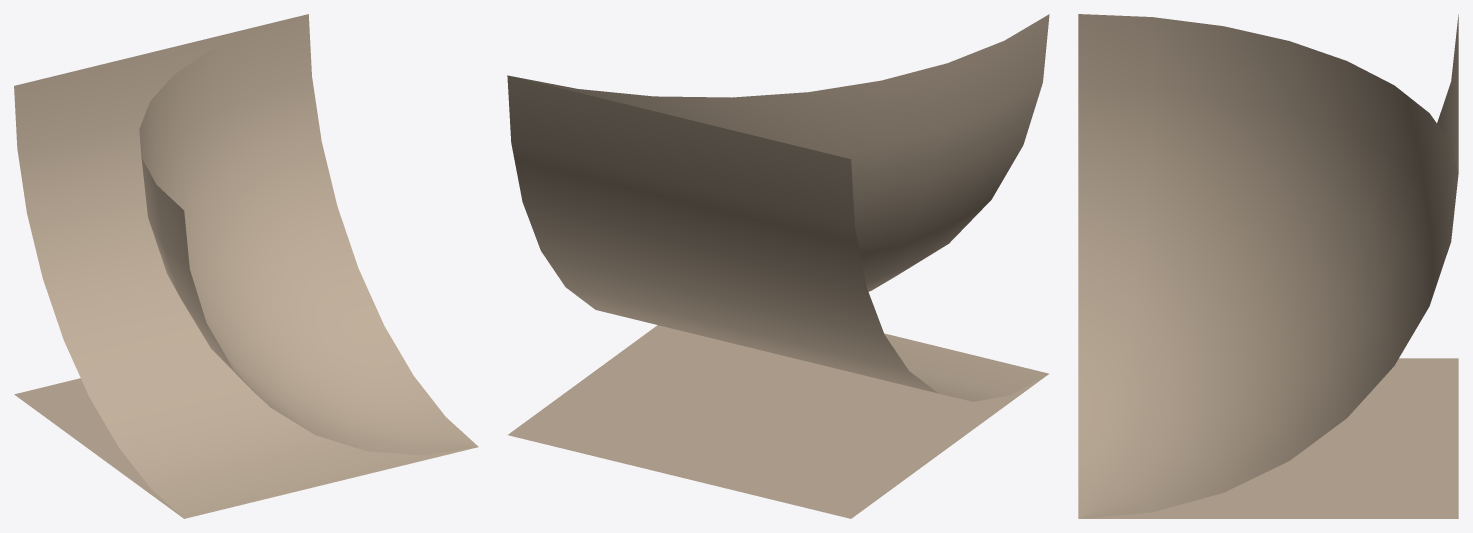
File: dug-wall-kit.glb
3 views of the same model, side by side, from view 1: azimuth 30°, elevation 25°; view 2: azimuth 150°, elevation 25°; view 3: azimuth 270°, elevation 25° (orthographic). The views are drawn at different scales.
Visible parts, largest first — view 1: dug_dome, dug_edge, dug_panel; view 2: dug_edge, dug_panel, dug_dome; view 3: dug_dome, dug_panel, dug_edge.
Boxes of the visible parts, box(x1,y1,x2,y2) form: dug_dome: box(139, 14, 478, 454); dug_edge: box(14, 14, 476, 518); dug_panel: box(14, 378, 182, 517); dug_edge: box(507, 75, 1048, 401); dug_panel: box(508, 325, 1048, 518); dug_dome: box(512, 14, 1049, 291); dug_dome: box(1078, 14, 1458, 518); dug_panel: box(1080, 358, 1458, 518); dug_edge: box(1437, 14, 1458, 174).
Size of the model in its own units: 0.5 by 0.5 by 0.5.
